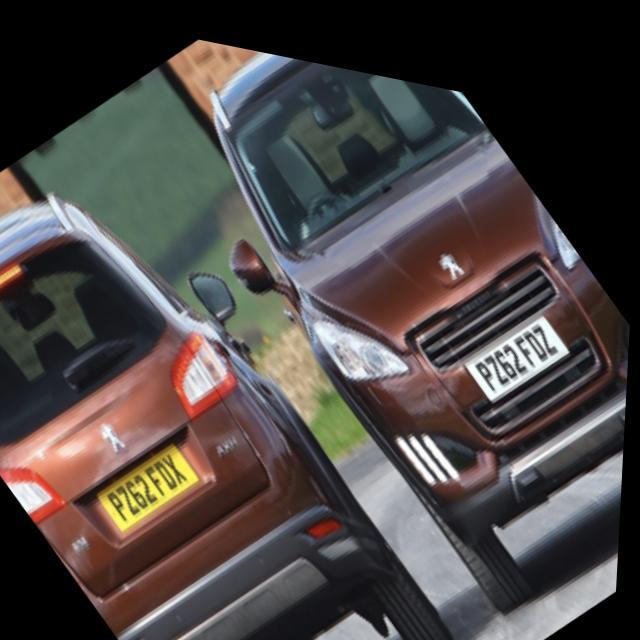license_plate: (98, 423, 204, 538), (466, 278, 571, 390)
